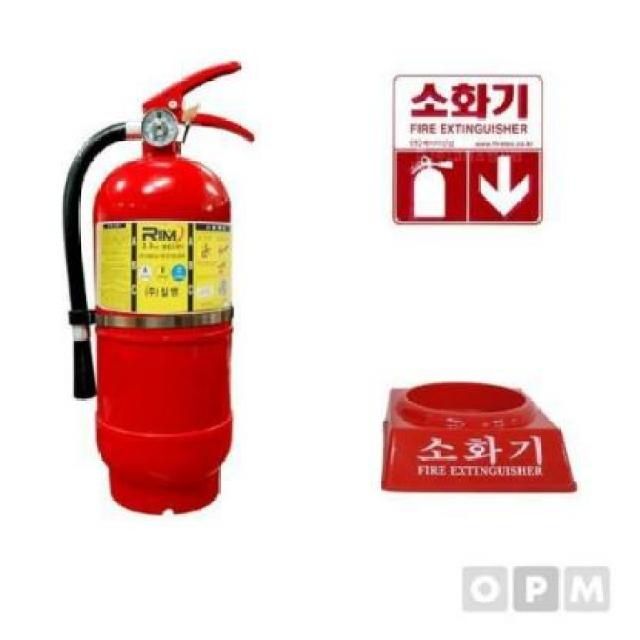fire extinguisher: (62, 61, 255, 515)
